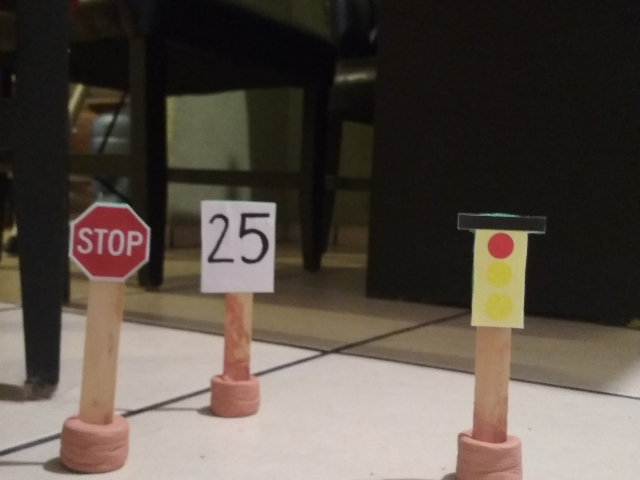Red Traffic Light: (455, 208, 549, 331)
Speed Limit 25: (196, 196, 279, 295)
Stop Sign: (65, 198, 153, 286)
